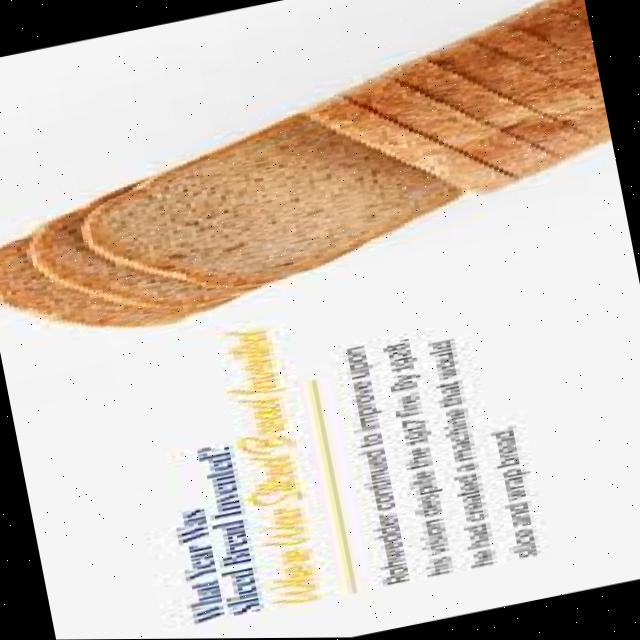Bread: (85, 115, 458, 287)
